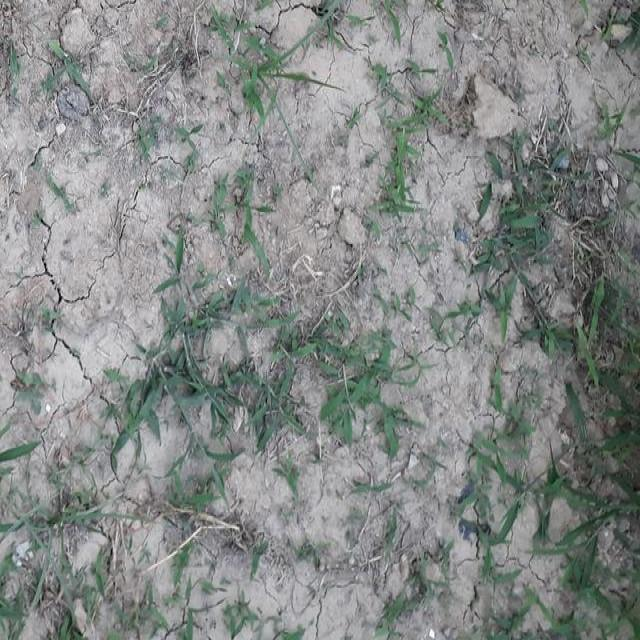weed: (126, 311, 404, 448), (574, 296, 640, 612), (483, 140, 557, 306), (230, 40, 329, 127)
